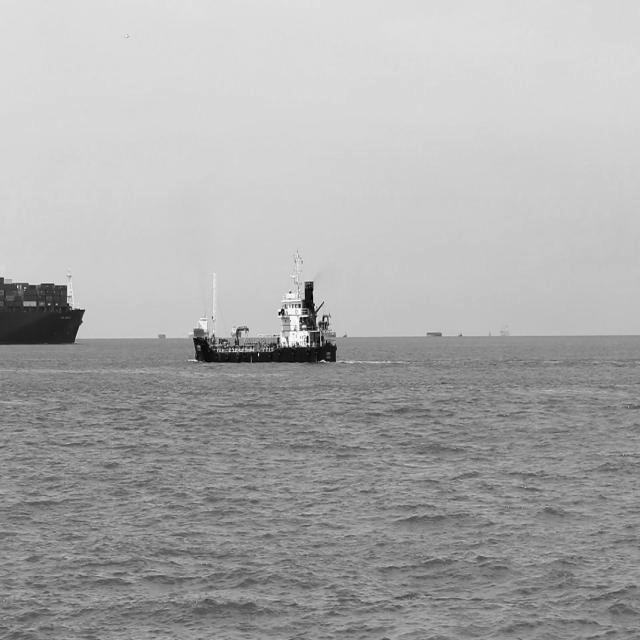ship: (190, 249, 342, 371), (0, 259, 86, 350), (424, 323, 442, 341), (500, 319, 515, 339), (156, 326, 170, 344)
